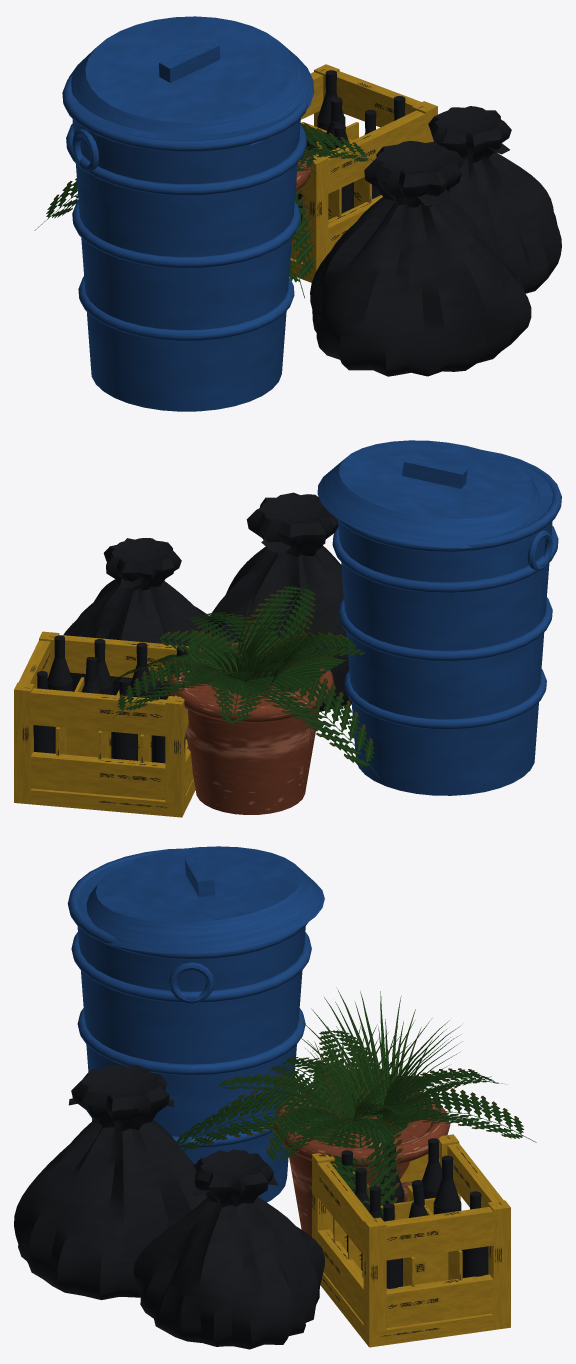
File: Prop_AlleyClutter.fbx
3 renders of one model, top to bottom at view 1: azimuth 30°, elevation 25°; view 2: azimuth 150°, elevation 25°; view 3: azimuth 270°, elevation 25°, orthographic. The views are drawn at different scales.
Visible parts, largest first — view 1: Prop_AlleyClutter; view 2: Prop_AlleyClutter; view 3: Prop_AlleyClutter.
Boxes of the visible parts, left/top/right/bottom form: Prop_AlleyClutter: left=34, top=16, right=561, bottom=411; Prop_AlleyClutter: left=14, top=440, right=561, bottom=817; Prop_AlleyClutter: left=14, top=846, right=536, bottom=1349.
Size of the model in its own units: 1.37 by 0.8475 by 1.32.
